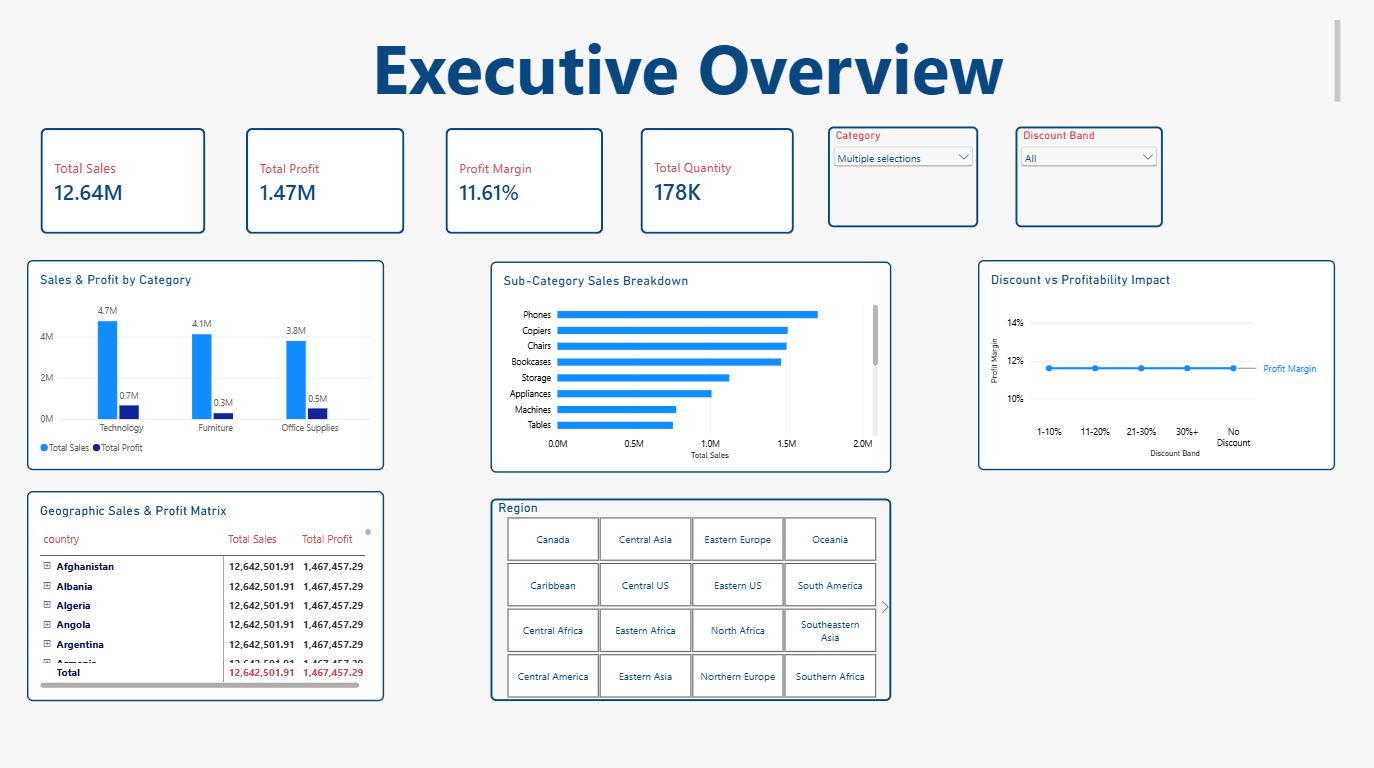

The page's visual inventory and layout, read from the dashboard file:
{"tool":"powerbi","page":{"name":"Executive Overview","canvas":[1920,1080],"ordinal":0},"visuals":[{"type":"clusteredColumnChart","title":"Sales & Profit by Category","fields":{"Category":["gold_category_performance.category"],"Y":["gold_category_performance.Total Sales","gold_category_performance.Total Profit"]},"box":[41.8,367.3,496.1,292],"z":0},{"type":"clusteredBarChart","title":"Sub-Category Sales Breakdown","fields":{"Category":["gold_category_performance.sub_category"],"Y":["gold_category_performance.Total Sales"]},"box":[684.4,367.8,556.7,293.3],"z":1000},{"type":"lineChart","title":"Discount vs Profitability Impact","fields":{"Category":["gold_discount_analysis.discount_band"],"Y":["gold_category_performance.Profit Margin"]},"box":[1363.3,366.7,496,292],"z":2000},{"type":"pivotTable","title":"Geographic Sales & Profit Matrix","fields":{"Rows":["gold_region_performance.country","gold_region_performance.state"],"Values":["gold_category_performance.Total Sales","gold_category_performance.Total Profit"]},"box":[42.2,687.8,496,292],"z":3000},{"type":"slicer","fields":{"Values":["gold_category_performance.category"]},"box":[1154.4,182.2,208.9,140],"z":4000},{"type":"slicer","fields":{"Values":["gold_region_performance.region"]},"box":[684.4,698.9,556.7,281.1],"z":5000},{"type":"slicer","fields":{"Values":["gold_discount_analysis.discount_band"]},"box":[1414.4,182.2,204.4,140],"z":6000},{"type":"cardVisual","fields":{"Data":["gold_category_performance.Total Sales"]},"box":[60,182.5,229.6,147.4],"z":7000},{"type":"cardVisual","fields":{"Data":["gold_category_performance.Total Profit"]},"box":[345.5,182.7,220.9,147.3],"z":8000},{"type":"cardVisual","fields":{"Data":["gold_category_performance.Profit Margin"]},"box":[622.7,182.7,219.1,147.3],"z":9000},{"type":"cardVisual","fields":{"Data":["gold_category_performance.Total Quantity"]},"box":[893.6,182.7,213.6,147.3],"z":10000},{"type":"textbox","box":[60,32.5,1805,120],"z":11000}]}

Visuals, with their boxes in screenshot pixels (x1, y1, x2, y2), scaled from the page's 1920x1080 canvas onto the 1374x768 screenshot:
"Sales & Profit by Category" clusteredColumnChart: [left=30, top=261, right=385, bottom=469]
"Sub-Category Sales Breakdown" clusteredBarChart: [left=490, top=262, right=888, bottom=470]
"Discount vs Profitability Impact" lineChart: [left=976, top=261, right=1331, bottom=468]
"Geographic Sales & Profit Matrix" pivotTable: [left=30, top=489, right=385, bottom=697]
slicer - gold_category_performance.category: [left=826, top=130, right=976, bottom=229]
slicer - gold_region_performance.region: [left=490, top=497, right=888, bottom=697]
slicer - gold_discount_analysis.discount_band: [left=1012, top=130, right=1158, bottom=229]
cardVisual - gold_category_performance.Total Sales: [left=43, top=130, right=207, bottom=235]
cardVisual - gold_category_performance.Total Profit: [left=247, top=130, right=405, bottom=235]
cardVisual - gold_category_performance.Profit Margin: [left=446, top=130, right=602, bottom=235]
cardVisual - gold_category_performance.Total Quantity: [left=639, top=130, right=792, bottom=235]
textbox: [left=43, top=23, right=1335, bottom=108]
